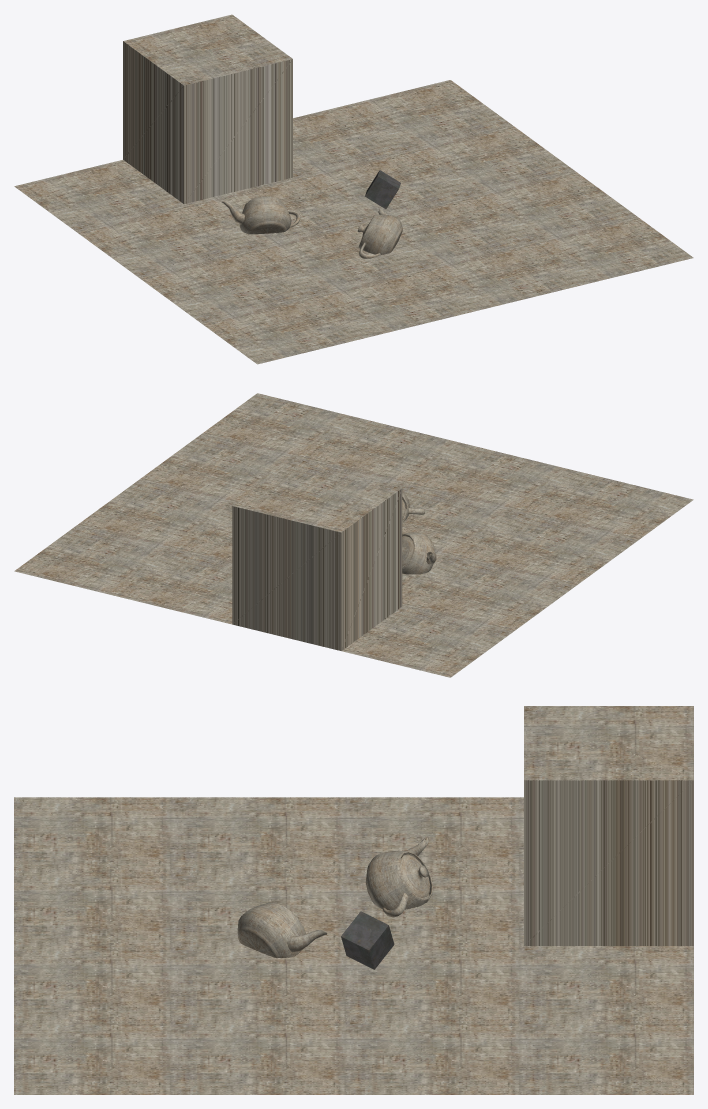
Rendered from map.fbx.
3 views of the same model, one above another, from view 1: azimuth 30°, elevation 25°; view 2: azimuth 150°, elevation 25°; view 3: azimuth 270°, elevation 25° (orthographic). The views are drawn at different scales.
Visible parts, largest first — view 1: Polygon, Teapot002, Teapot001, Box001; view 2: Polygon, Teapot002; view 3: Polygon, Teapot002, Teapot001, Box001.
Boxes of the visible parts, x1=… form: Polygon: x1=14, y1=14, x2=693, y2=364; Teapot002: x1=222, y1=196, x2=300, y2=234; Teapot001: x1=357, y1=207, x2=402, y2=258; Box001: x1=365, y1=170, x2=400, y2=209; Polygon: x1=14, y1=393, x2=693, y2=677; Teapot002: x1=402, y1=532, x2=436, y2=574; Polygon: x1=14, y1=706, x2=693, y2=1094; Teapot002: x1=365, y1=836, x2=432, y2=917; Teapot001: x1=237, y1=902, x2=327, y2=957; Box001: x1=341, y1=911, x2=394, y2=969.
Bounding box in the file's own units: 40.35 × 12.07 × 38.96.
2 materials, 2 textured.
